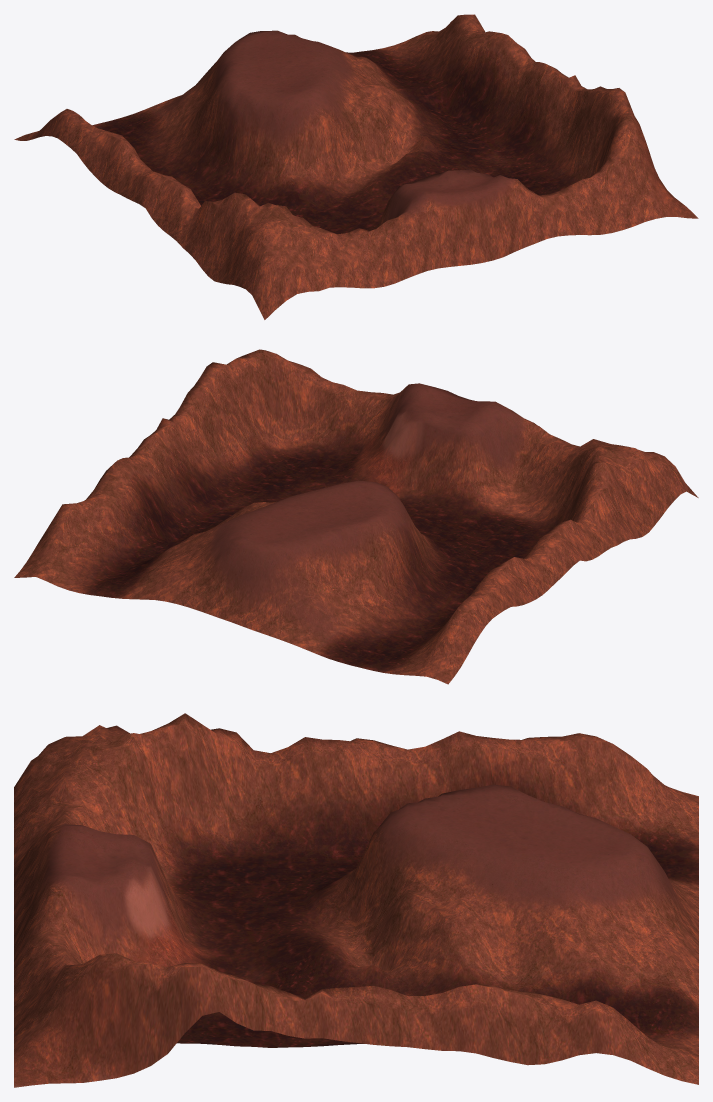
File: rocky-desert.glb
3 views of the same model, one above another, from view 1: azimuth 30°, elevation 25°; view 2: azimuth 150°, elevation 25°; view 3: azimuth 270°, elevation 25° (orthographic). The views are drawn at different scales.
Size of the model in its own units: 20 by 3.8 by 20.
Materials: 1 (1 with a texture image).
